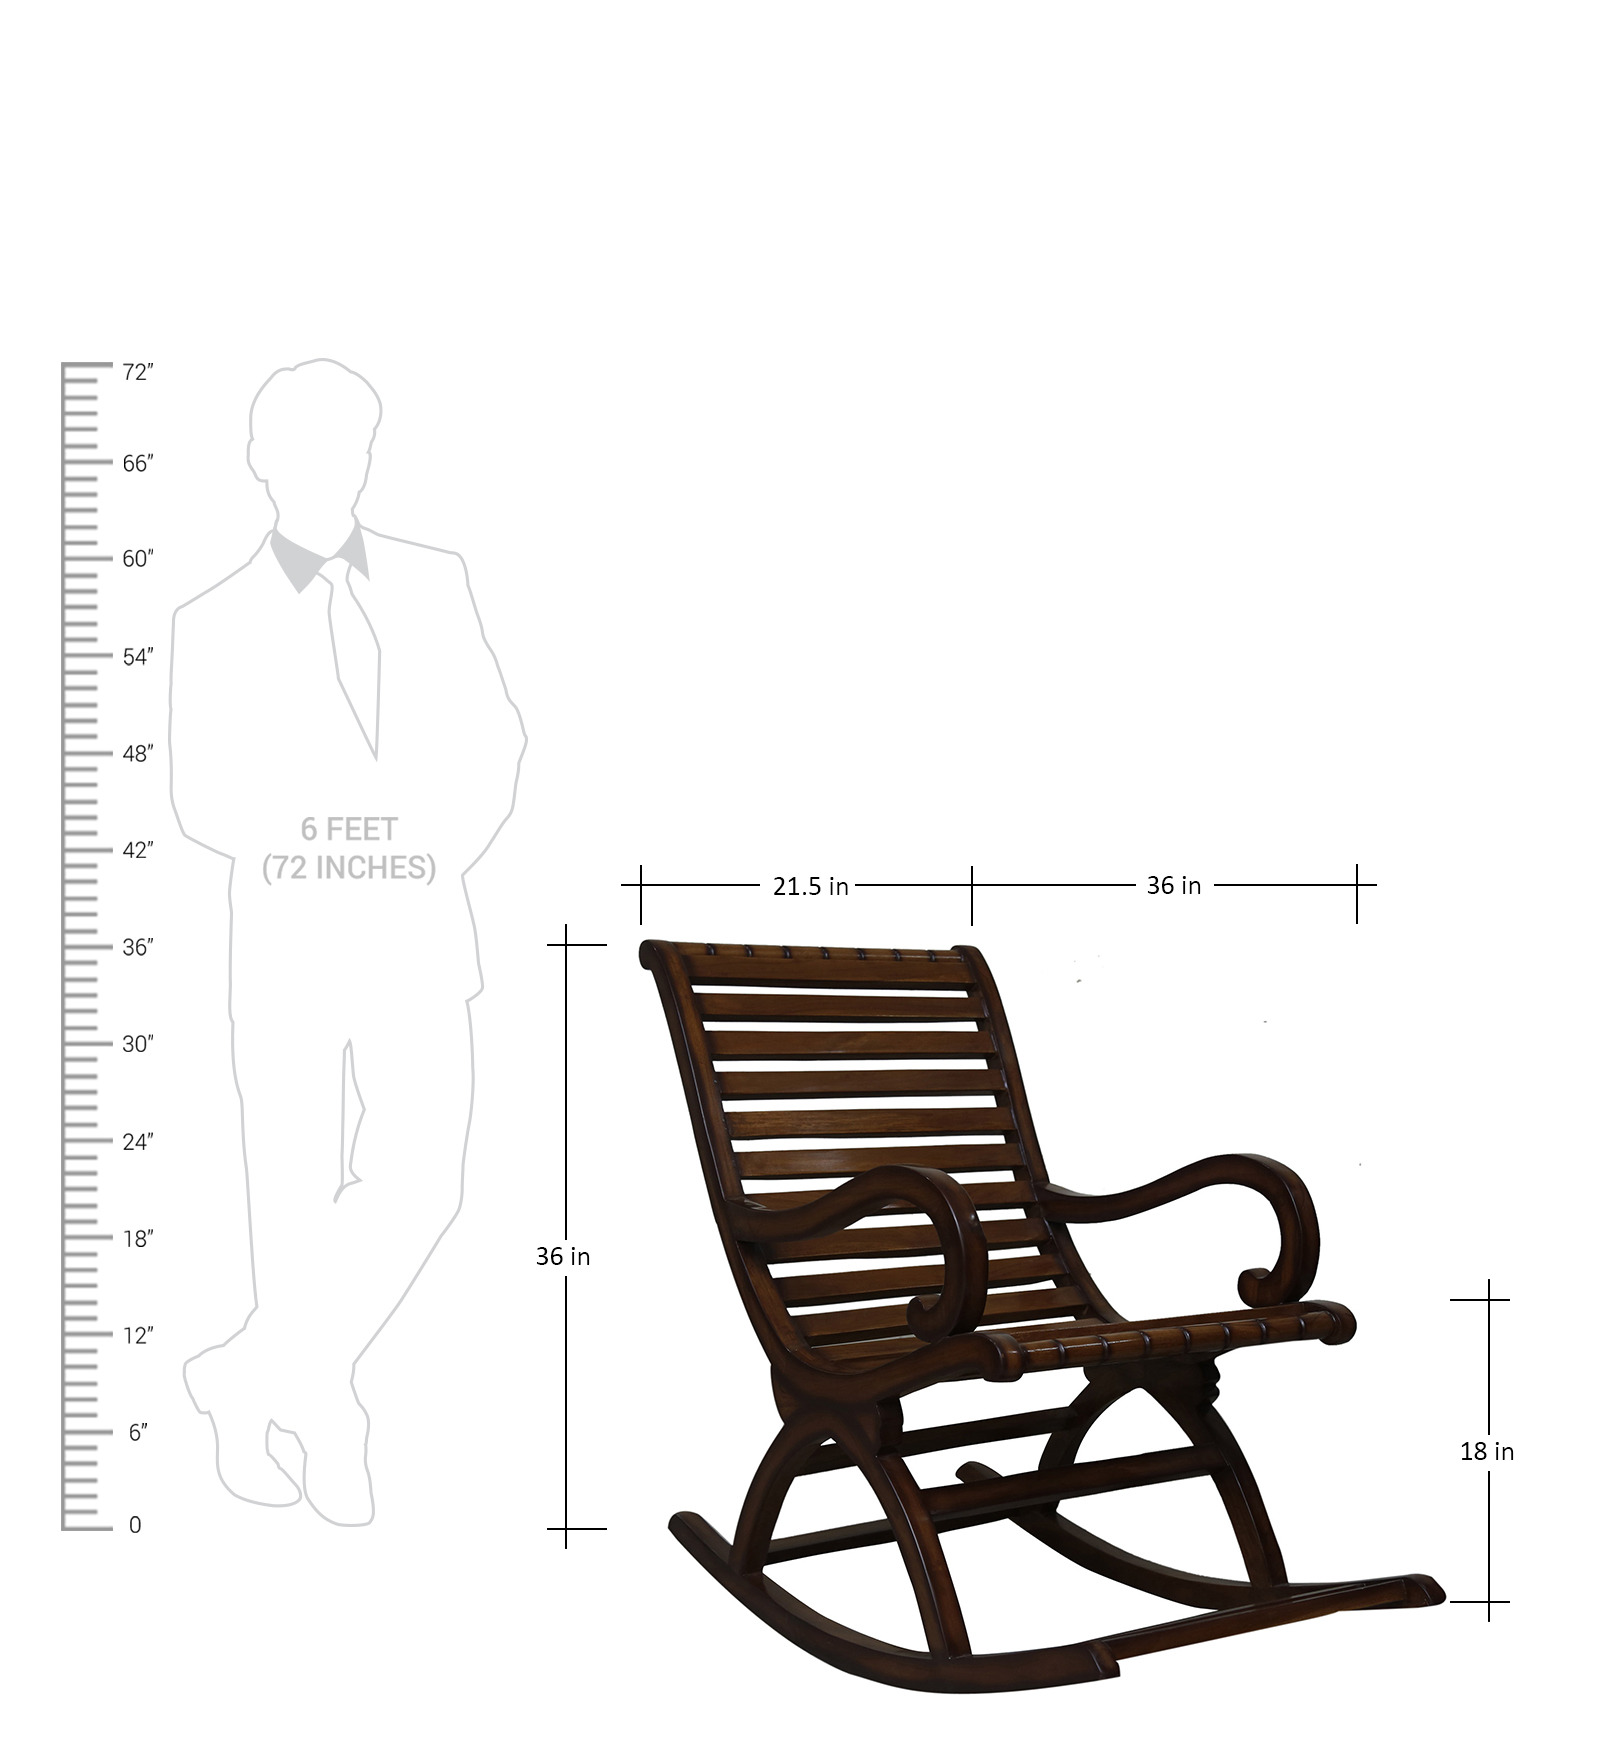Rocking Chair in Teak Colour by RVF: (625, 931, 1457, 1716)
